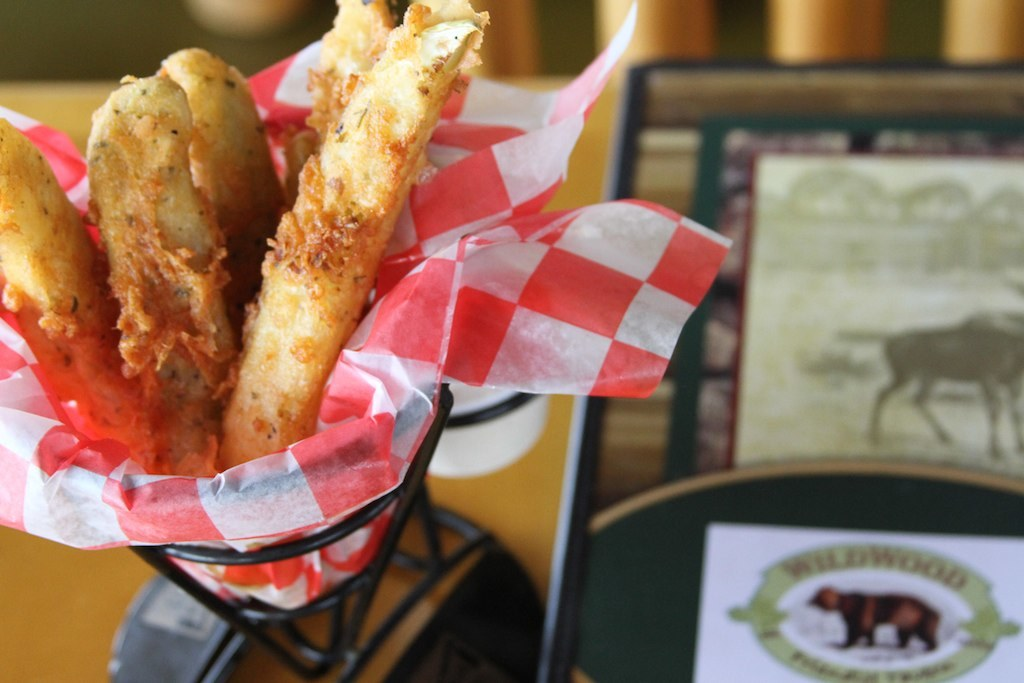French fries: (213, 8, 469, 472), (78, 72, 232, 473), (0, 127, 152, 483), (158, 37, 275, 339), (268, 0, 396, 234), (389, 0, 485, 68)
